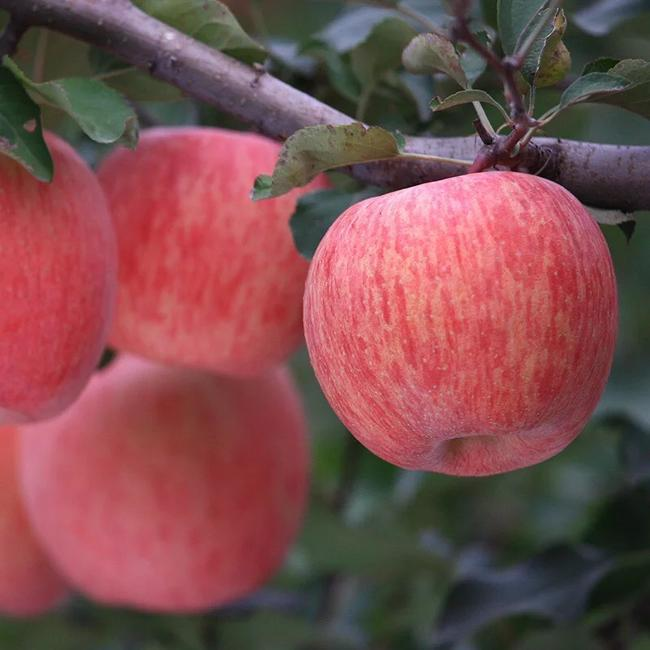apple: (311, 176, 628, 479), (10, 365, 307, 617), (76, 121, 326, 376)
